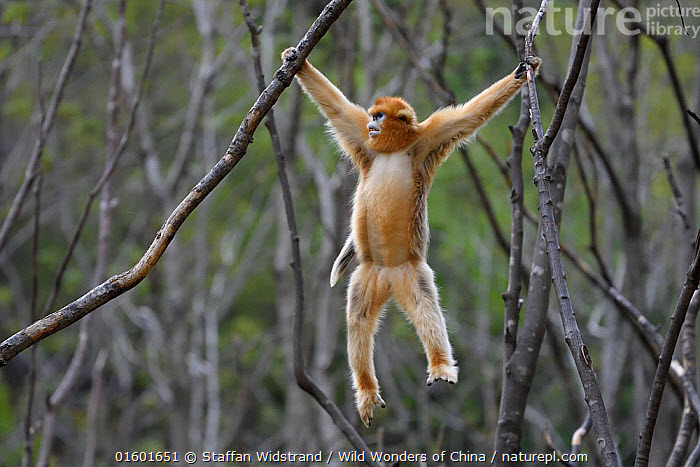GoldenSnub-Nosed: (272, 50, 543, 389)
